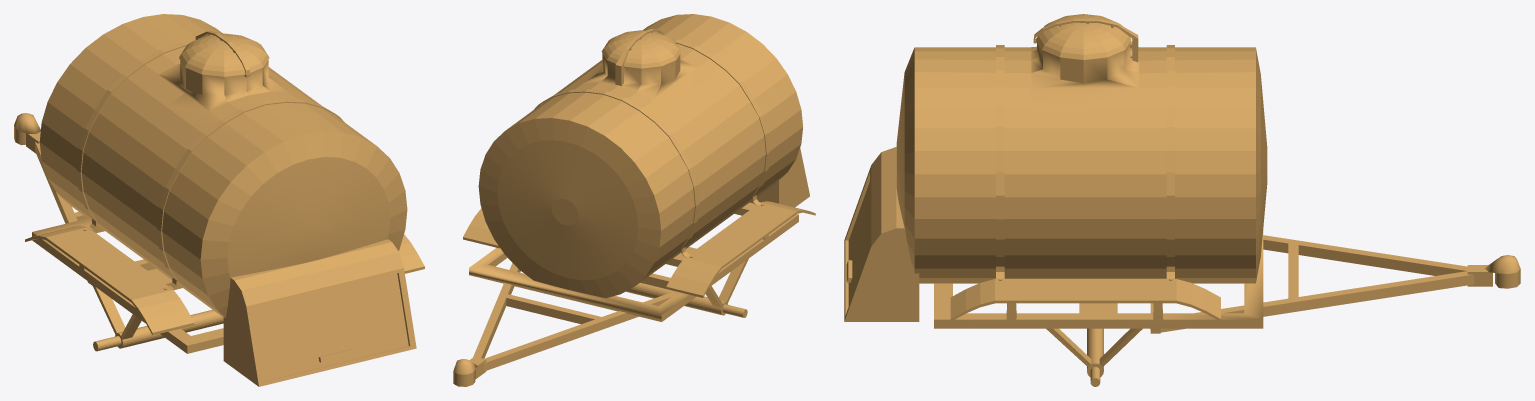
The model's file is Vehicles_kbac.fbx.
The picture shows the model from 3 angles, left to right: view 1: azimuth 30°, elevation 25°; view 2: azimuth 150°, elevation 25°; view 3: azimuth 270°, elevation 25°; orthographic projection. The views are drawn at different scales.
Parts seen in each view (by area): view 1: KBAC.001; view 2: KBAC.001; view 3: KBAC.001.
Part boxes in pixels (x1,y1,x2,y2): KBAC.001: [14, 14, 424, 386]; KBAC.001: [453, 14, 815, 386]; KBAC.001: [844, 14, 1520, 386].
Bounding box in the file's own units: 347 × 352 × 704.
